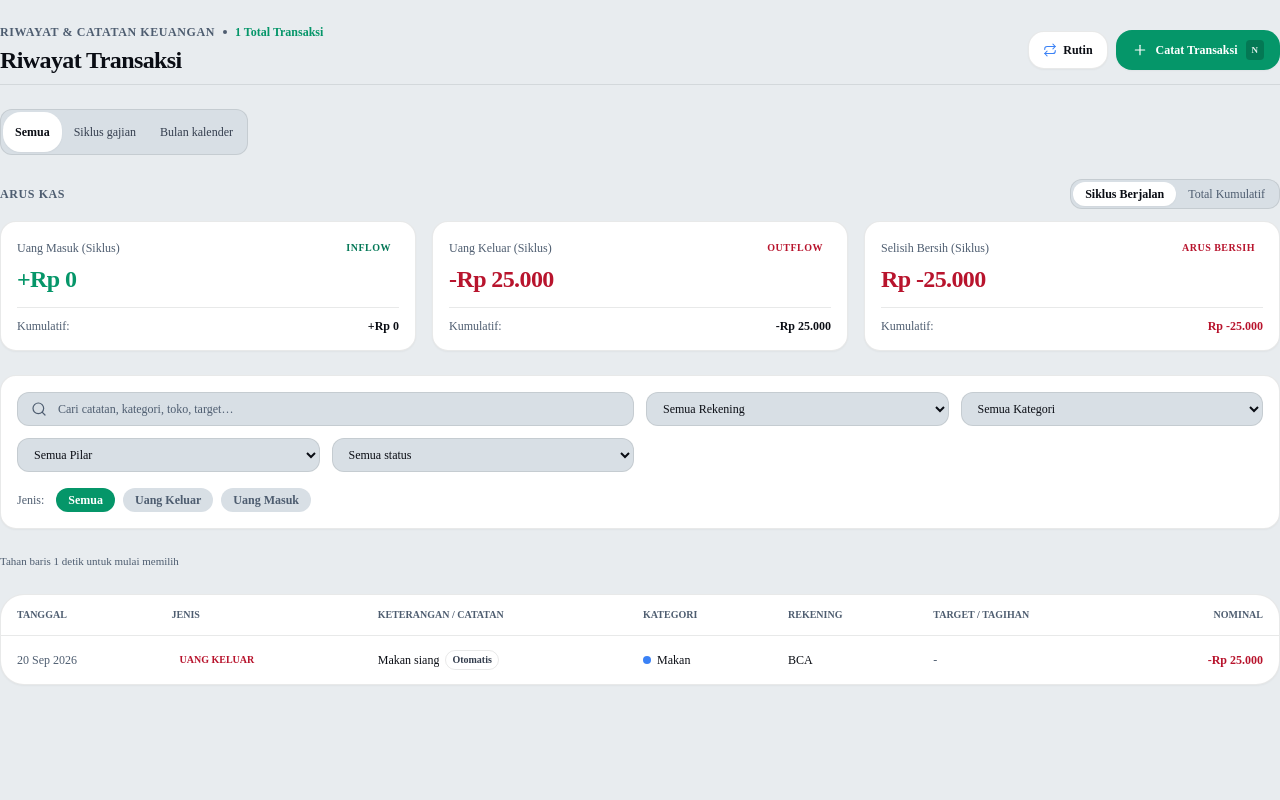
Ledger provenance and reimbursements › shows where an automatic row came from and marks it reviewed without other changes
The image size is (1280, 800).
Click the row named "Buka atau ubah: Makan siang".
click(47, 660)  # box 1,635 -> 1279,684
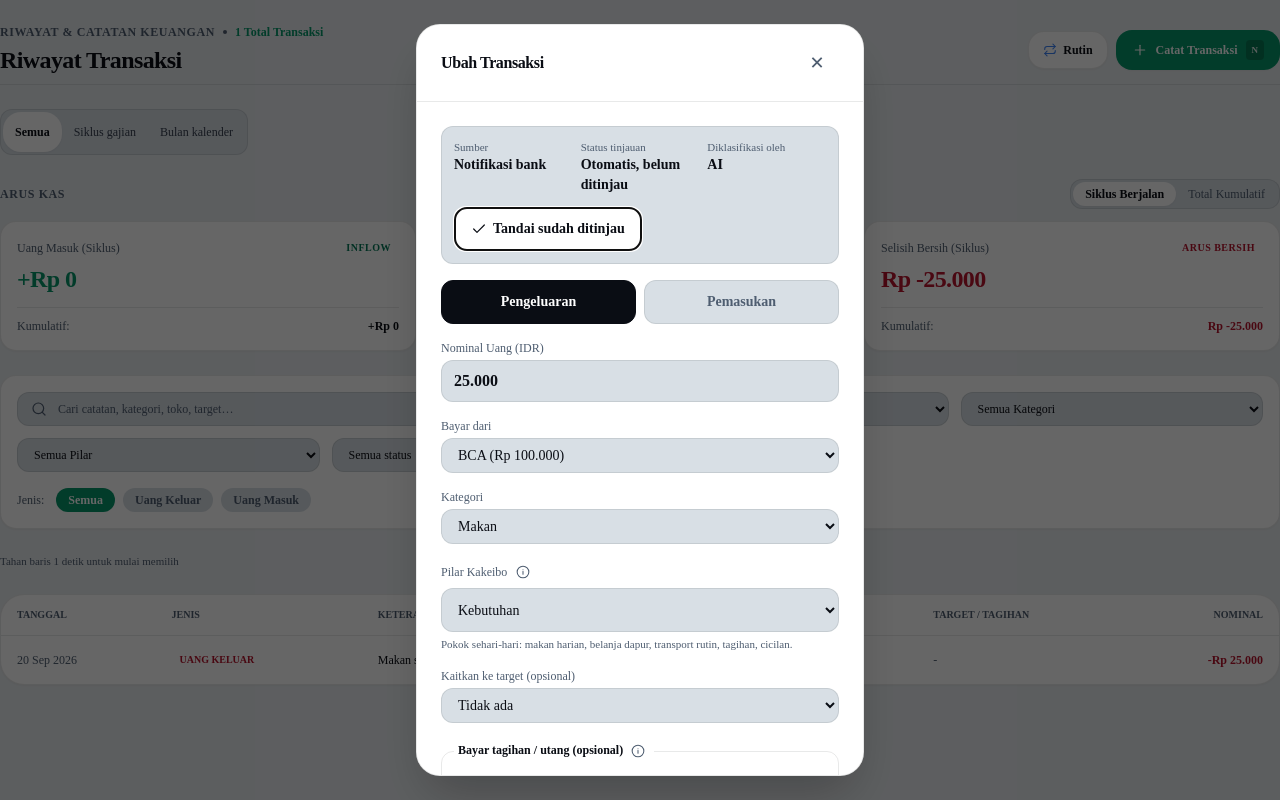
expect the text "Notifikasi bank" is shown: met, box 454,157 -> 546,172
expect the text "Otomatis, belum ditinjau" is shown: met, box 581,157 -> 680,192
expect the text "AI" is shown: met, box 707,157 -> 723,172
Press Enter
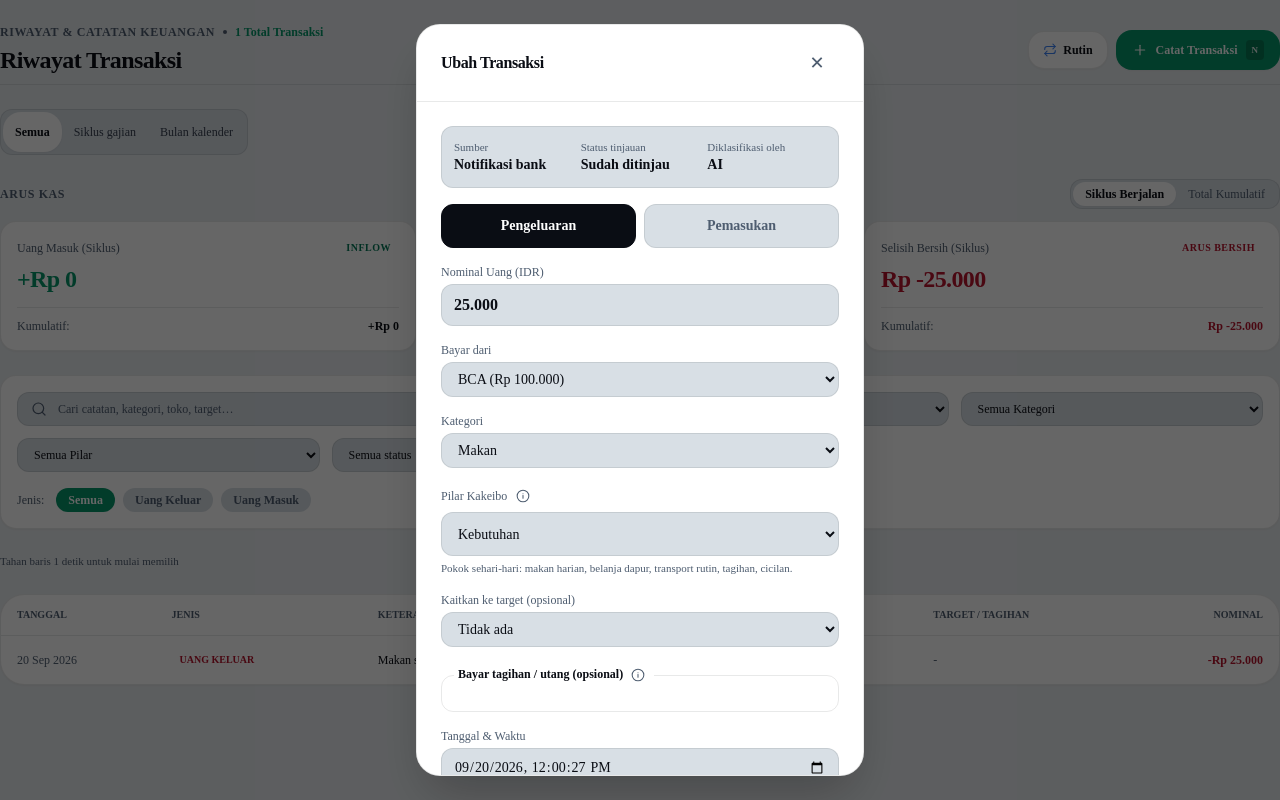
expect the text "Sudah ditinjau" is shown: met, box 581,157 -> 670,172
expect the button "Tandai sudah ditinjau" is gone: met
